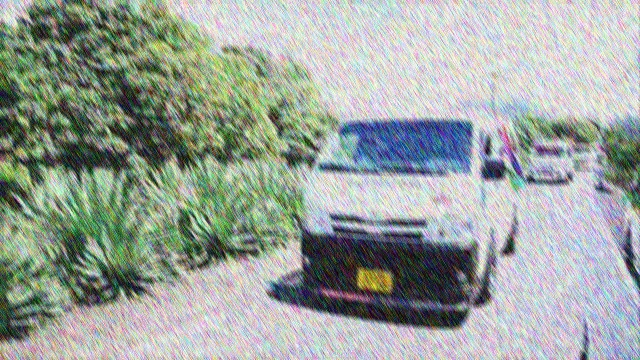van: (294, 114, 525, 325)
